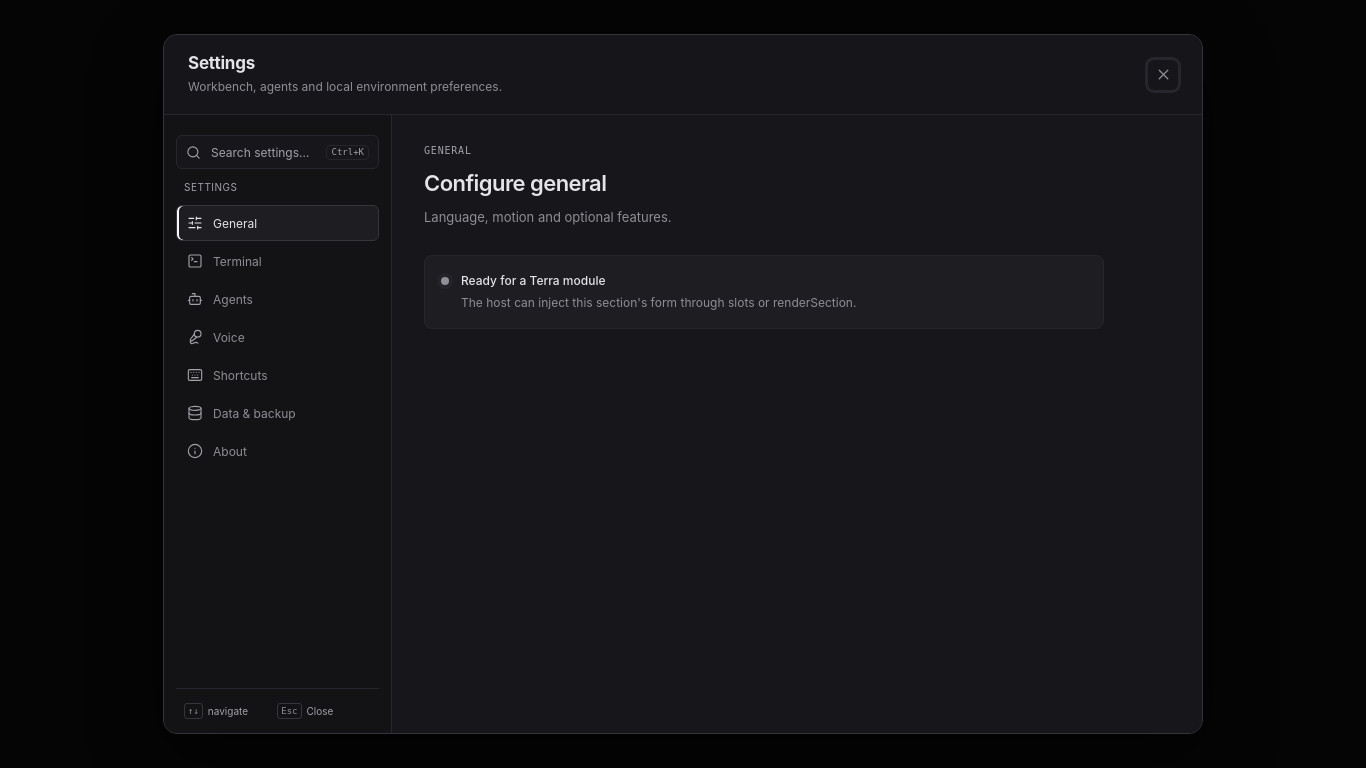
Test: SettingsDialog in English › Given a search with no match, when pressing Escape, then the query clears and the sections come back
Type "zzzz" into the search field named "Search settings" at (264, 152), box top-left (209, 144), bottom-right (318, 161)
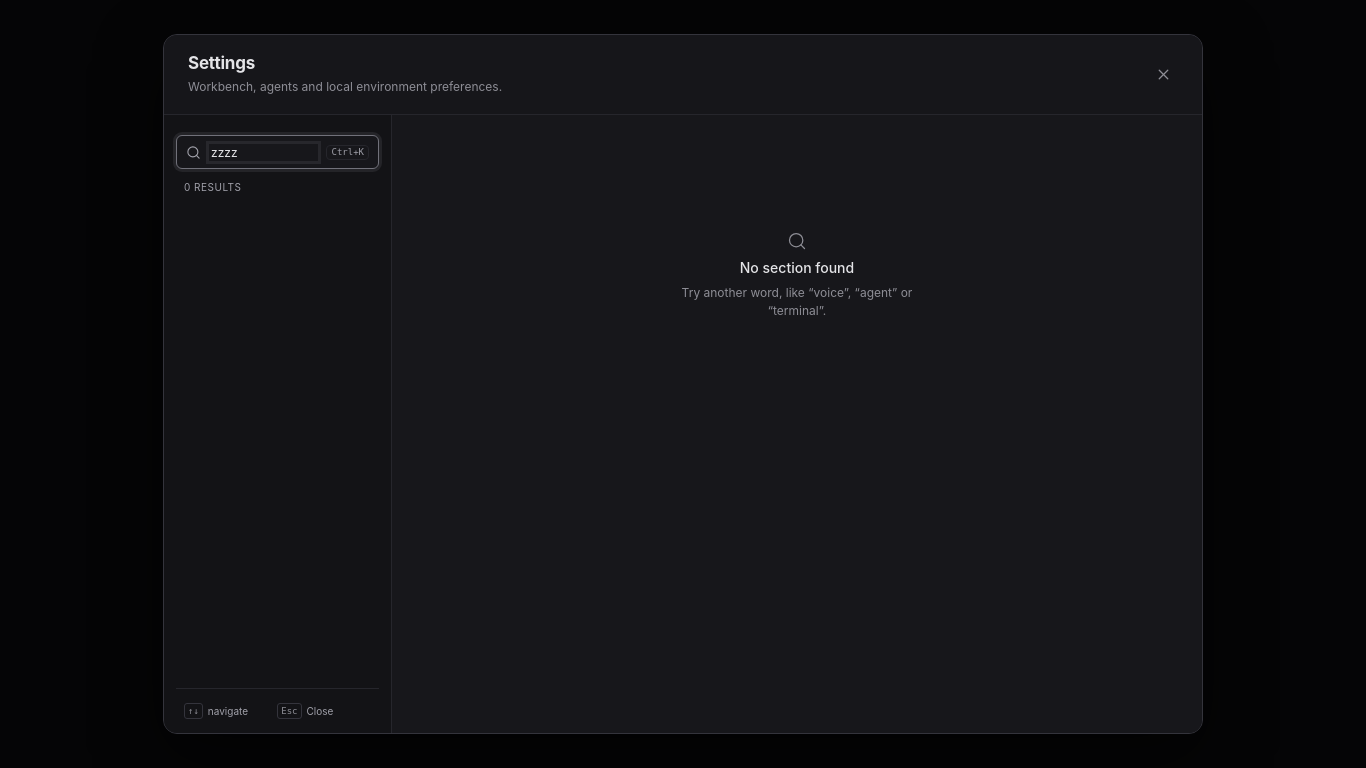
Expected: the message shows "No section found", top-left (740, 259), bottom-right (854, 276)
Expected: the tab is gone
Press Arrowdown
Press Escape
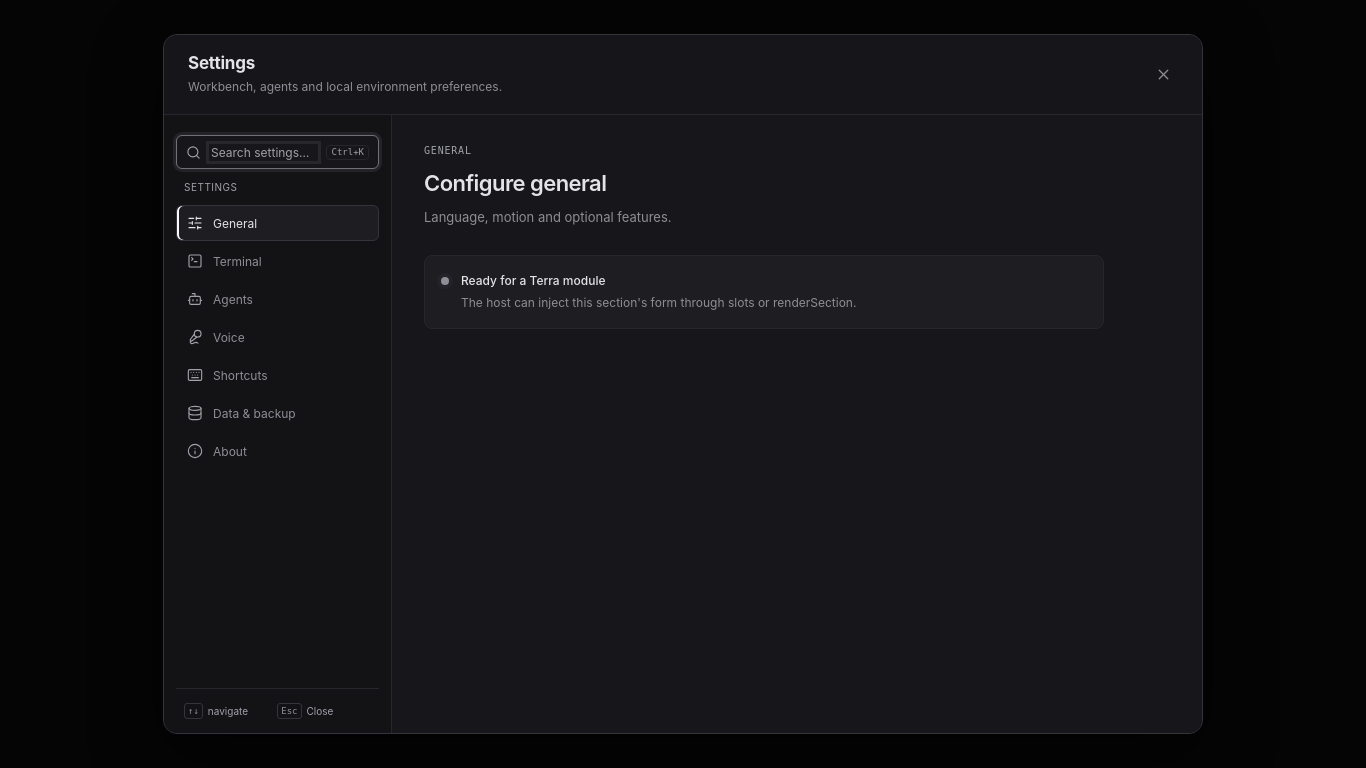
Expected: the search field named "Search settings" is empty, top-left (209, 144), bottom-right (318, 161)
Expected: the number of tabs is 7
